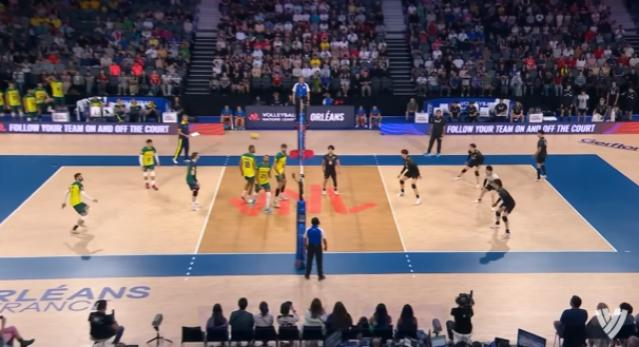Levantador: (42, 164, 116, 248), (319, 142, 345, 202)
Libero: (182, 149, 208, 207), (470, 158, 504, 202)
bola: (304, 57, 328, 71)
